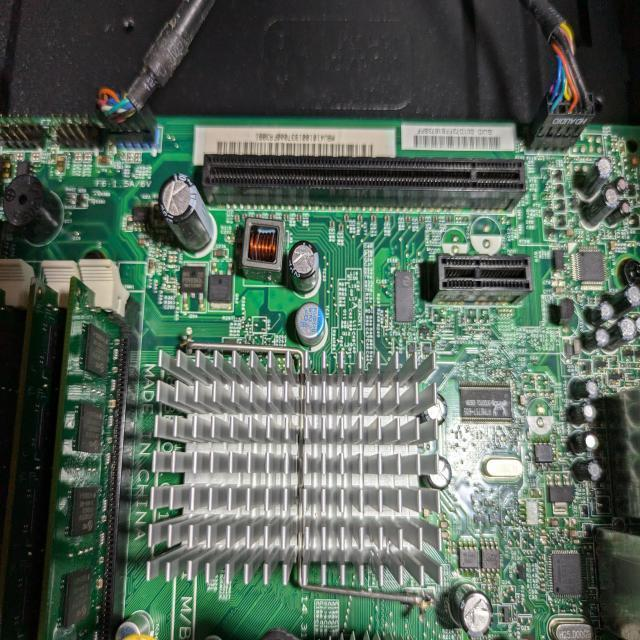Mainboard: (0, 115, 640, 640)
RAM: (36, 277, 122, 640), (0, 277, 65, 640)
